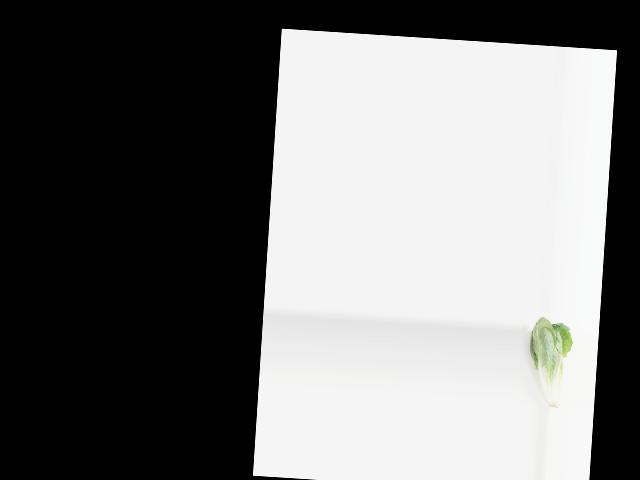lettuce: (523, 315, 575, 412)
